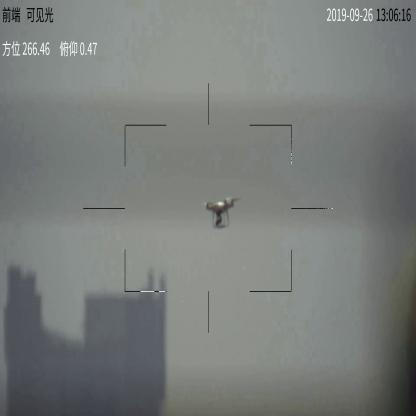uav: (198, 196, 241, 230)
